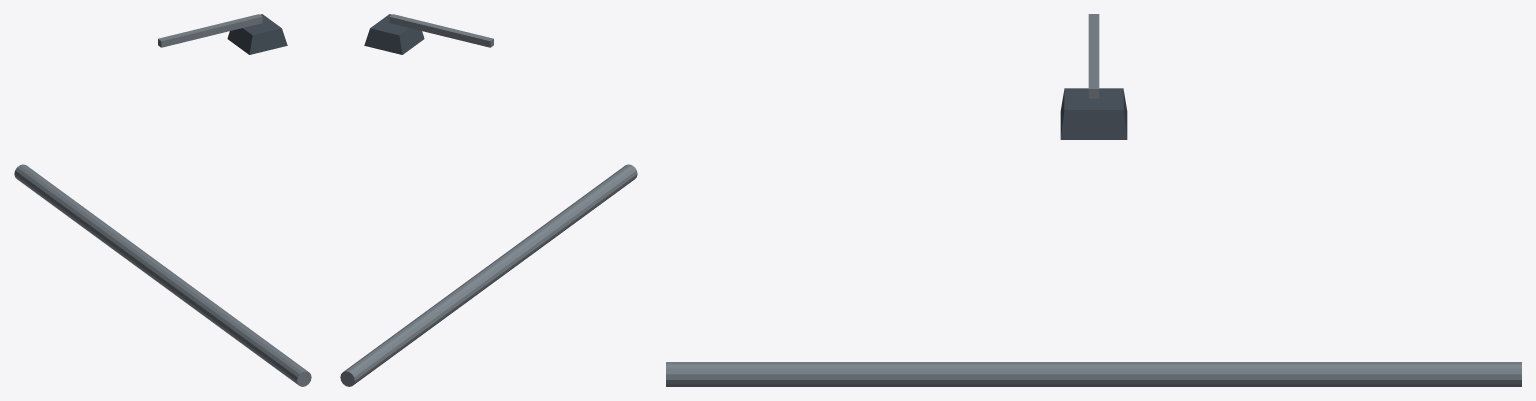
File: streetlamp.glb
3 renders of one model, left to right at view 1: azimuth 30°, elevation 25°; view 2: azimuth 150°, elevation 25°; view 3: azimuth 270°, elevation 25°, orthographic. The views are drawn at different scales.
Visible parts, largest first — view 1: Pole, Lamp, Arm; view 2: Pole, Lamp, Arm; view 3: Pole, Lamp, Arm.
Boxes of the visible parts, box(x1,y1,x2,y2) form: Pole: box(14, 164, 311, 386); Lamp: box(227, 14, 287, 54); Arm: box(158, 14, 262, 47); Pole: box(340, 164, 637, 386); Lamp: box(364, 14, 424, 54); Arm: box(389, 14, 493, 47); Pole: box(666, 362, 1521, 386); Lamp: box(1060, 88, 1127, 139); Arm: box(1088, 14, 1099, 98).
Size of the model in its own units: 1.07 by 2.07 by 4.35.
